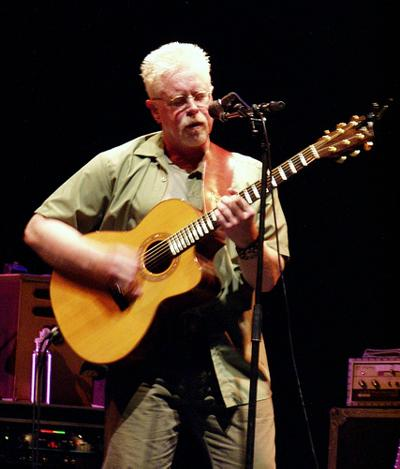person: (23, 41, 289, 467)
